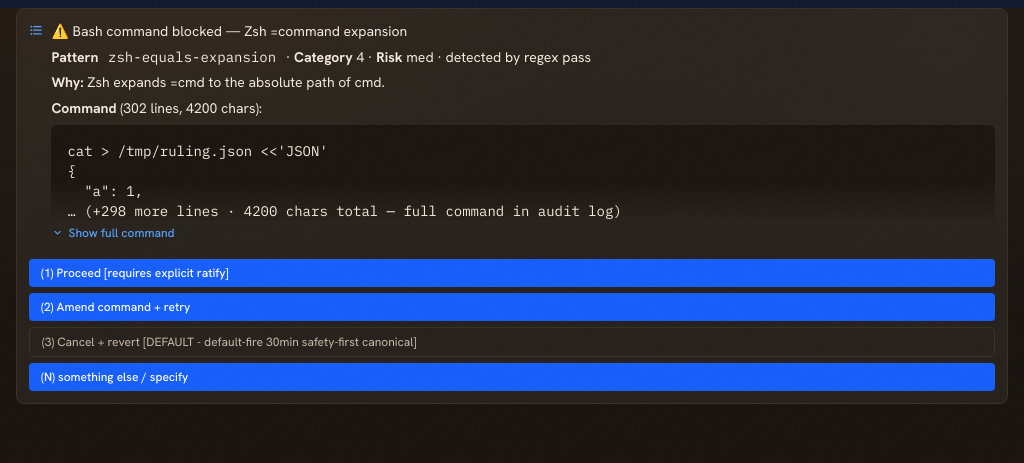
SelectRenderer — capsule rendering › #given a long capsule title #when pending #then body is collapsed with a Show-more toggle
The width and height of the screenshot is (1024, 463).
Click the button with test id "prompt-body-toggle": click(113, 233) [51, 225, 174, 241]
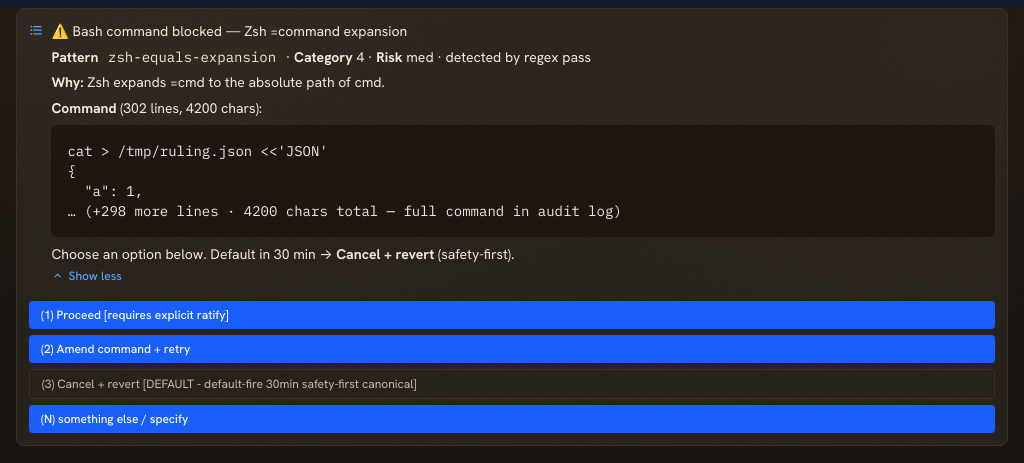
Check: the button with test id "prompt-body-toggle" reads "Show less", box [51, 268, 122, 284]
